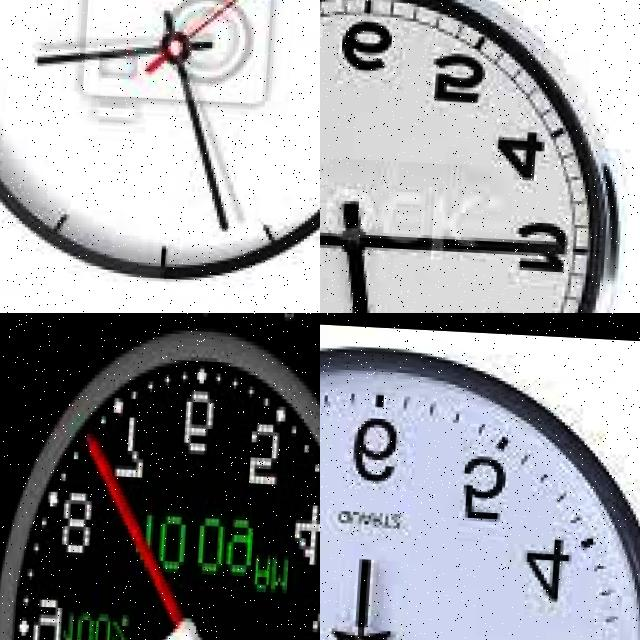Clocks-images: (1, 317, 321, 640), (321, 1, 637, 314), (321, 338, 640, 640), (1, 1, 321, 287)
